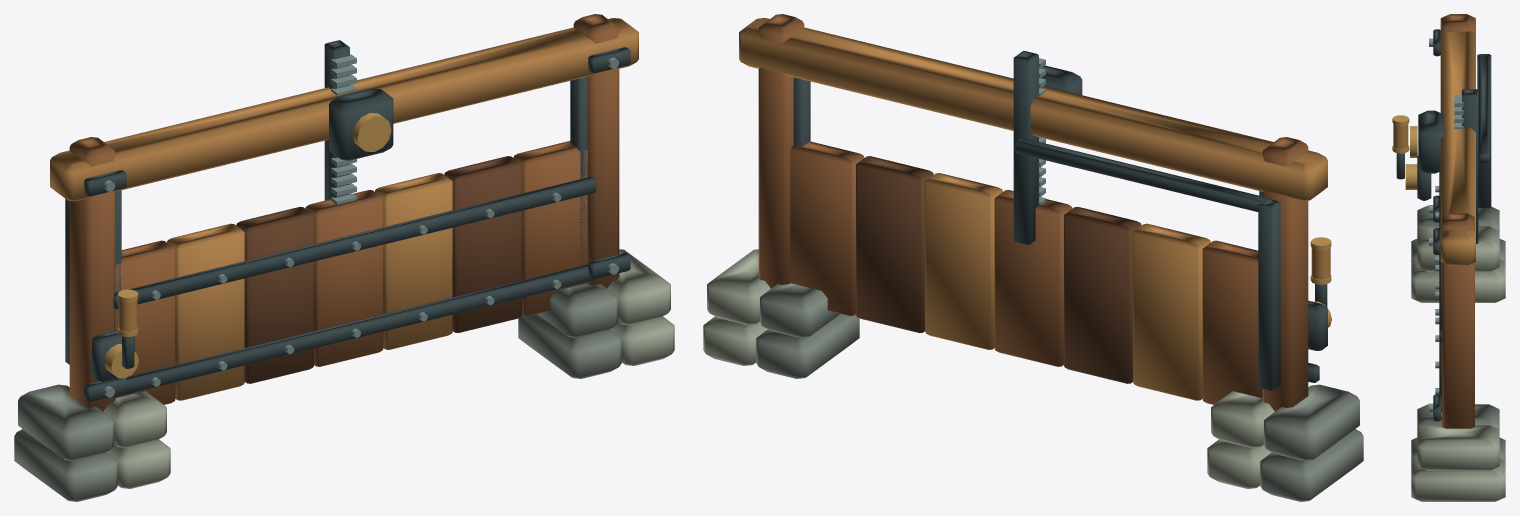
The model's file is comporta.glb.
The picture shows the model from 3 angles, left to right: view 1: azimuth 30°, elevation 25°; view 2: azimuth 150°, elevation 25°; view 3: azimuth 270°, elevation 25°; orthographic projection. The views are drawn at different scales.
Visible parts, largest first — view 1: Malha_madeira_clara3, Malha_madeira, Malha_madeira_clara, Malha_madeira_escura, Malha_ferro, Malha_madeira2, Malha_pedra, Malha_pedra_clara, Malha_ferro3, Malha_metal_claro, Malha_latao; view 2: Malha_madeira, Malha_madeira_clara3, Malha_madeira_escura, Malha_madeira_clara, Malha_pedra, Malha_madeira2, Malha_ferro3, Malha_pedra_clara, Malha_ferro; view 3: Malha_pedra_clara, Malha_madeira_clara3, Malha_madeira2, Malha_ferro3, Malha_pedra, Malha_ferro, Malha_metal_claro, Malha_madeira_clara2, Malha_latao3, Malha_latao2, Malha_latao, Malha_ferro2 (+1 smaller).
Part boxes in pixels (<box>): Malha_madeira_clara3: <box>50,18,638,201</box>; Malha_madeira: <box>115,141,587,404</box>; Malha_madeira_clara: <box>167,173,452,400</box>; Malha_madeira_escura: <box>236,156,521,383</box>; Malha_ferro: <box>113,40,595,396</box>; Malha_madeira2: <box>69,14,619,411</box>; Malha_pedra: <box>14,283,621,501</box>; Malha_pedra_clara: <box>103,249,674,488</box>; Malha_ferro3: <box>65,47,630,402</box>; Malha_metal_claro: <box>151,54,561,386</box>; Malha_latao: <box>353,113,391,151</box>; Malha_madeira: <box>790,141,1262,404</box>; Malha_madeira_clara3: <box>739,18,1327,201</box>; Malha_madeira_escura: <box>856,156,1141,383</box>; Malha_madeira_clara: <box>925,173,1210,400</box>; Malha_pedra: <box>756,283,1363,501</box>; Malha_madeira2: <box>758,14,1308,411</box>; Malha_ferro3: <box>793,65,1327,390</box>; Malha_pedra_clara: <box>703,249,1274,488</box>; Malha_ferro: <box>1013,51,1038,244</box>; Malha_pedra_clara: <box>1411,226,1505,501</box>; Malha_madeira_clara3: <box>1440,14,1475,265</box>; Malha_madeira2: <box>1442,14,1474,428</box>; Malha_ferro3: <box>1417,29,1491,421</box>; Malha_pedra: <box>1411,205,1505,460</box>; Malha_ferro: <box>1439,89,1478,412</box>; Malha_metal_claro: <box>1435,95,1463,394</box>; Malha_madeira_clara2: <box>1393,124,1408,149</box>; Malha_latao3: <box>1405,164,1417,189</box>; Malha_latao2: <box>1392,115,1409,153</box>; Malha_latao: <box>1410,126,1417,157</box>; Malha_ferro2: <box>1396,153,1404,179</box>.
Bounding box in the file's own units: 4.83 × 2.74 × 0.961.
